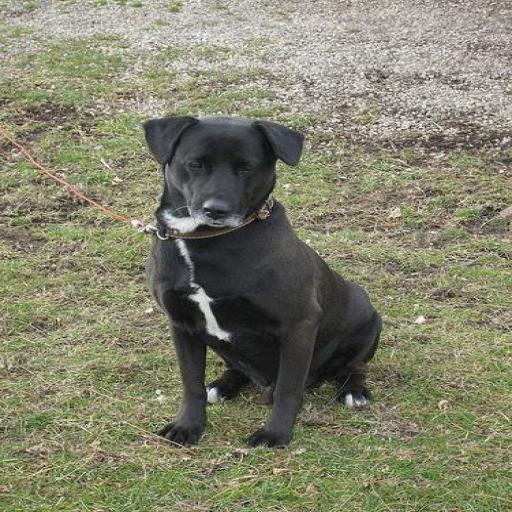dog_face: (132, 110, 309, 227)
